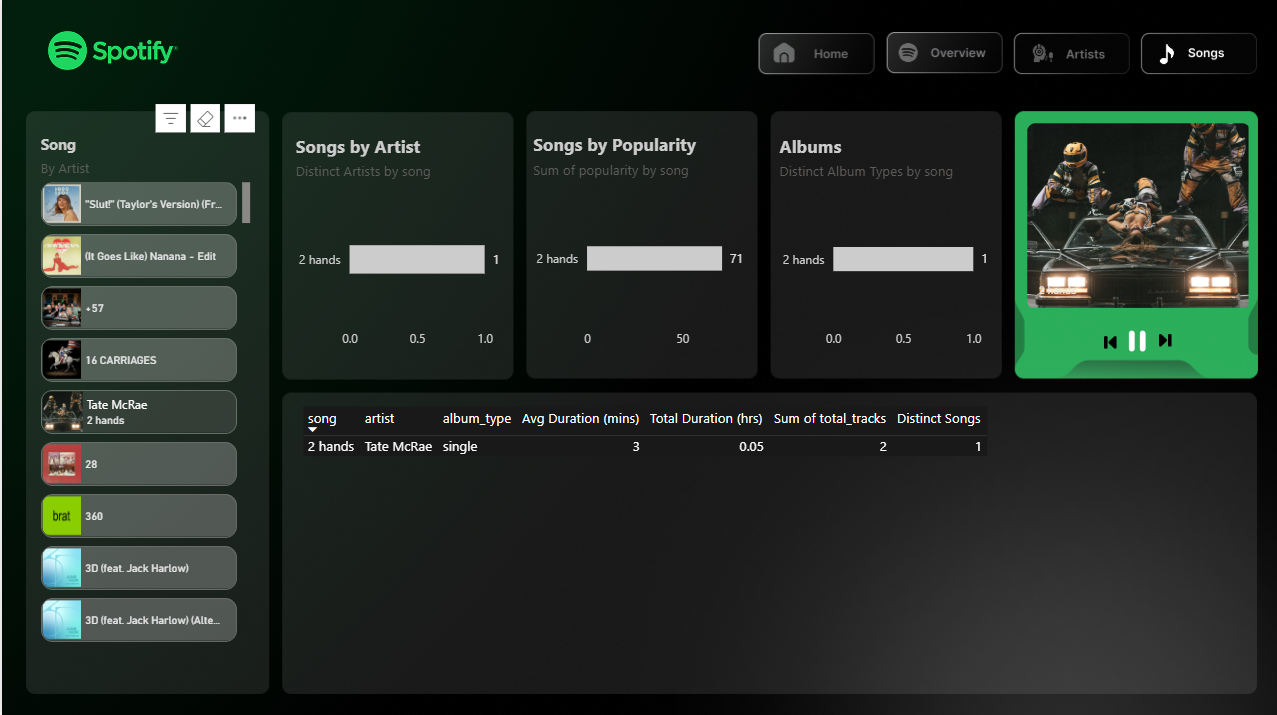

This screenshot's page, from the dashboard's own definition file:
{"tool":"powerbi","page":{"name":"Songs","canvas":[1280,720],"ordinal":3},"visuals":[{"type":"actionButton","box":[751.4,34.9,117.8,40.5],"z":0},{"type":"actionButton","box":[880.2,34.9,117.8,40.5],"z":1000},{"type":"actionButton","box":[1007.9,36.1,117.8,40.5],"z":2000},{"type":"actionButton","box":[1135.5,36.1,117.8,40.5],"z":3000},{"type":"image","box":[1150.9,326.4,24.5,31.9],"z":4000},{"type":"image","box":[1095.7,330.1,24.5,29.4],"z":5000},{"type":"image","box":[1120.2,326.4,30.7,33.1],"z":6000},{"type":"clusteredBarChart","title":"Songs by Artist","fields":{"Y":["Top-50-World.Distinct Artists"],"Category":["Top-50-World.song"]},"box":[288.4,136.2,222.1,222.1],"z":7000},{"type":"clusteredBarChart","title":"Songs by Popularity","fields":{"Y":["Sum(Top-50-World.popularity)"],"Category":["Top-50-World.song"]},"box":[526.4,135,227,223.3],"z":8000},{"type":"clusteredBarChart","title":"Albums","fields":{"Y":["Top-50-World.Distinct Album Types"],"Category":["Top-50-World.song"]},"box":[773,136.2,227,222.1],"z":9000},{"type":"advancedSlicerVisual","title":"Song ","fields":{"Values":["Top-50-World.song"]},"box":[34.4,136.2,219.6,516.6],"z":10000},{"type":"advancedSlicerVisual","title":"Song ","fields":{"Values":["Top-50-World.song"]},"box":[998.8,119,274.9,197.6],"z":10001},{"type":"tableEx","fields":{"Values":["Top-50-World.song","Top-50-World.artist","Top-50-World.album_type","Top-50-World.Avg Duration (mins)","Top-50-World.Total Duration (hrs)","Sum(Top-50-World.total_tracks)","Top-50-World.Distinct Songs"]},"box":[294.5,403.7,936.2,281],"z":10002}]}

Visuals, with their boxes in screenshot pixels (x1, y1, x2, y2), scaled from the page's 1280x720 canvas onto the 1277x715 screenshot:
actionButton: BBox(750, 35, 867, 75)
actionButton: BBox(878, 35, 996, 75)
actionButton: BBox(1006, 36, 1123, 76)
actionButton: BBox(1133, 36, 1250, 76)
image: BBox(1148, 324, 1173, 356)
image: BBox(1093, 328, 1118, 357)
image: BBox(1118, 324, 1148, 357)
"Songs by Artist" clusteredBarChart: BBox(288, 135, 509, 356)
"Songs by Popularity" clusteredBarChart: BBox(525, 134, 752, 356)
"Albums" clusteredBarChart: BBox(771, 135, 998, 356)
"Song " advancedSlicerVisual: BBox(34, 135, 253, 648)
"Song " advancedSlicerVisual: BBox(996, 118, 1271, 314)
tableEx - Top-50-World.song x Top-50-World.artist: BBox(294, 401, 1228, 680)
